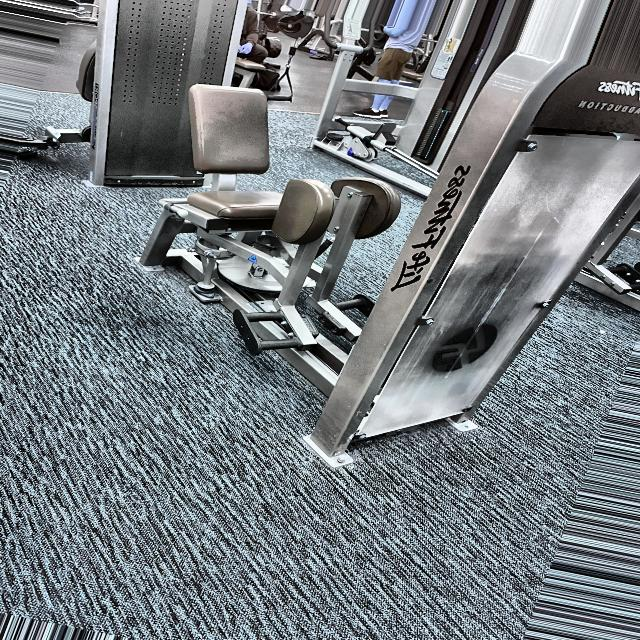hip_adduction_machine: (190, 157, 411, 377), (575, 86, 640, 132)
